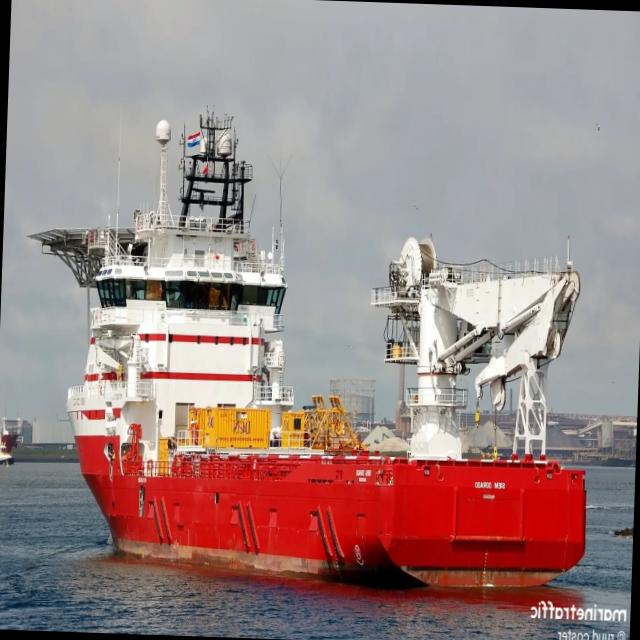Offshore: (33, 110, 586, 586)
